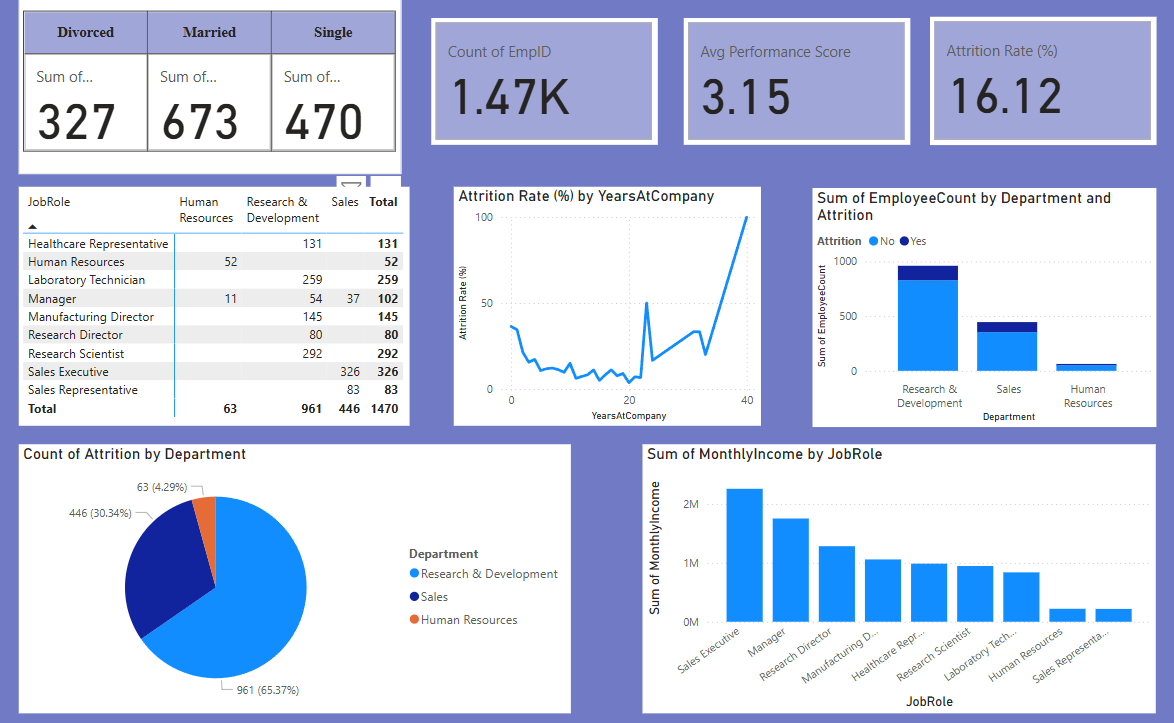

This screenshot's page, from the dashboard's own definition file:
{"tool":"powerbi","page":{"name":"Page 1","canvas":[1280,803],"ordinal":0},"visuals":[{"type":"pieChart","fields":{"Category":["HR_Analytics (1).Department"],"Y":["CountNonNull(HR_Analytics (1).Attrition)"]},"box":[20.6,498.1,602.4,293.7],"z":0},{"type":"cardVisual","fields":{"Data":["HR_Analytics (1).Avg Performance Score"]},"box":[746.5,32.9,247,138.6],"z":1000},{"type":"cardVisual","fields":{"Data":["HR_Analytics (1).Attrition Rate (%)"]},"box":[1014.1,31.6,247,140],"z":2000},{"type":"cardVisual","fields":{"Rows":["HR_Analytics (1).MaritalStatus"],"Data":["Sum(HR_Analytics (1).EmployeeCount)"]},"box":[20.6,0,417.2,203.1],"z":3000},{"type":"lineChart","fields":{"Category":["HR_Analytics (1).YearsAtCompany"],"Y":["HR_Analytics (1).Attrition Rate (%)"]},"box":[495.4,216.8,334.8,260.7],"z":4000},{"type":"columnChart","fields":{"Category":["HR_Analytics (1).Department"],"Y":["Sum(HR_Analytics (1).EmployeeCount)"],"Series":["HR_Analytics (1).Attrition"]},"box":[886.5,216.8,374.6,260.7],"z":5000},{"type":"columnChart","fields":{"Y":["Sum(HR_Analytics (1).MonthlyIncome)"],"Category":["HR_Analytics (1).JobRole"]},"box":[701.2,498.1,559.9,293.7],"z":6000},{"type":"cardVisual","fields":{"Data":["CountNonNull(HR_Analytics (1).EmpID)"]},"box":[470.7,32.9,247,138.6],"z":7000},{"type":"pivotTable","fields":{"Rows":["HR_Analytics (1).JobRole"],"Columns":["HR_Analytics (1).Department"],"Values":["Sum(HR_Analytics (1).EmployeeCount)"]},"box":[20.6,216.8,426.8,260.7],"z":8000}]}

Visuals, with their boxes in screenshot pixels (x1, y1, x2, y2), scaled from the page's 1280x803 canvas onto the 1174x723 screenshot:
pieChart - HR_Analytics (1).Department x CountNonNull(HR_Analytics (1).Attrition): detection(19, 448, 571, 713)
cardVisual - HR_Analytics (1).Avg Performance Score: detection(685, 30, 911, 154)
cardVisual - HR_Analytics (1).Attrition Rate (%): detection(930, 28, 1157, 155)
cardVisual - HR_Analytics (1).MaritalStatus x Sum(HR_Analytics (1).EmployeeCount): detection(19, 0, 402, 183)
lineChart - HR_Analytics (1).YearsAtCompany x HR_Analytics (1).Attrition Rate (%): detection(454, 195, 761, 430)
columnChart - HR_Analytics (1).Department x Sum(HR_Analytics (1).EmployeeCount): detection(813, 195, 1157, 430)
columnChart - Sum(HR_Analytics (1).MonthlyIncome) x HR_Analytics (1).JobRole: detection(643, 448, 1157, 713)
cardVisual - CountNonNull(HR_Analytics (1).EmpID): detection(432, 30, 658, 154)
pivotTable - HR_Analytics (1).JobRole x HR_Analytics (1).Department: detection(19, 195, 410, 430)
